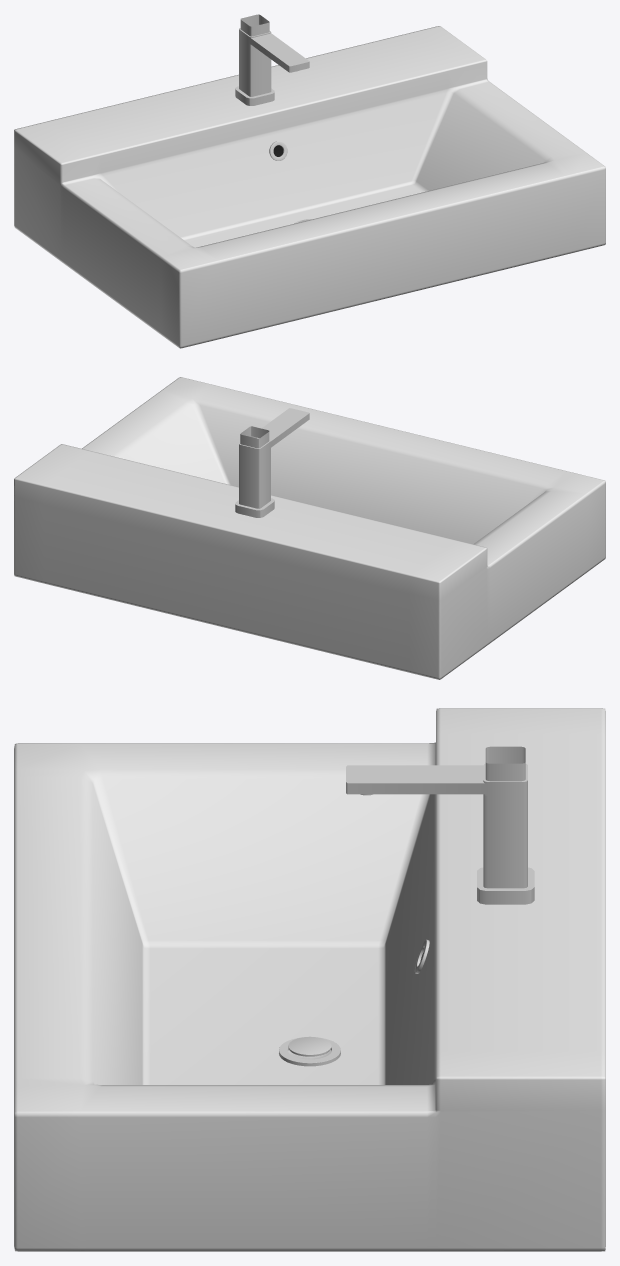
File: washbasin_modern_01.glb
The picture shows the model from 3 angles, top to bottom: view 1: azimuth 30°, elevation 25°; view 2: azimuth 150°, elevation 25°; view 3: azimuth 270°, elevation 25°; orthographic projection. The views are drawn at different scales.
Parts seen in each view (by area): view 1: WashBasin01, Faucet01; view 2: WashBasin01, Faucet01; view 3: WashBasin01, Faucet01.
Part boxes in pixels (x1=…): WashBasin01: x1=14, y1=26, x2=605, y2=348; Faucet01: x1=235, y1=14, x2=309, y2=105; WashBasin01: x1=14, y1=377, x2=605, y2=679; Faucet01: x1=235, y1=408, x2=309, y2=517; WashBasin01: x1=14, y1=708, x2=605, y2=1251; Faucet01: x1=346, y1=746, x2=534, y2=904.
Size of the model in its own units: 1.11 by 0.4369 by 0.7508.
Materials: 1 (1 with a texture image).
